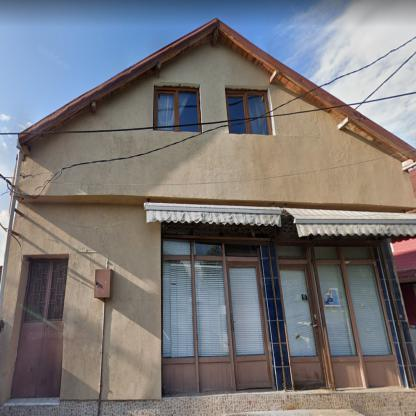door: (13, 261, 67, 395), (278, 260, 326, 386), (227, 260, 271, 386)
window: (276, 246, 392, 357), (162, 240, 259, 359), (227, 93, 270, 133), (156, 91, 198, 129)
